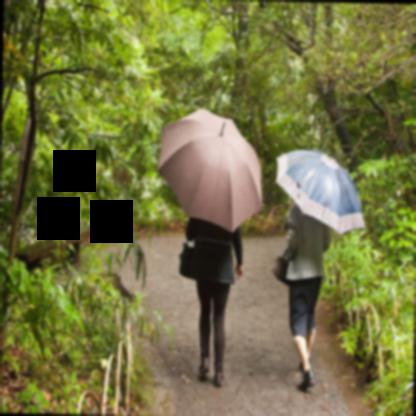handbag: (270, 246, 290, 283), (178, 240, 196, 280)
